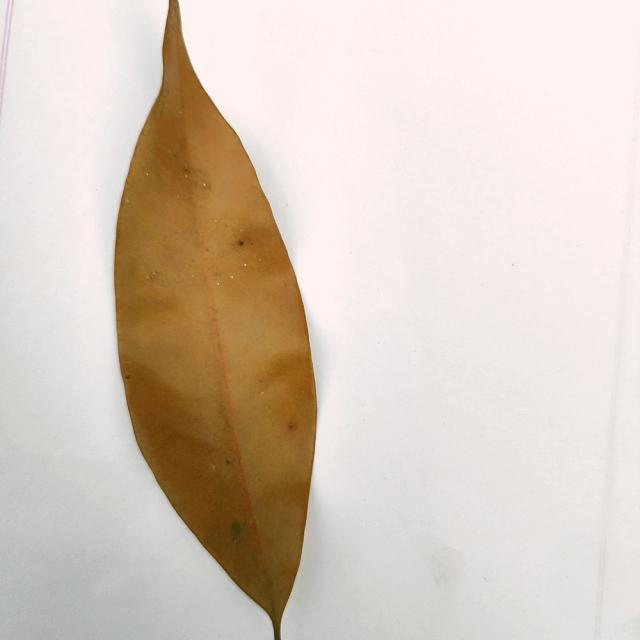Dry_Leaf-Lychee: (113, 0, 319, 639)
